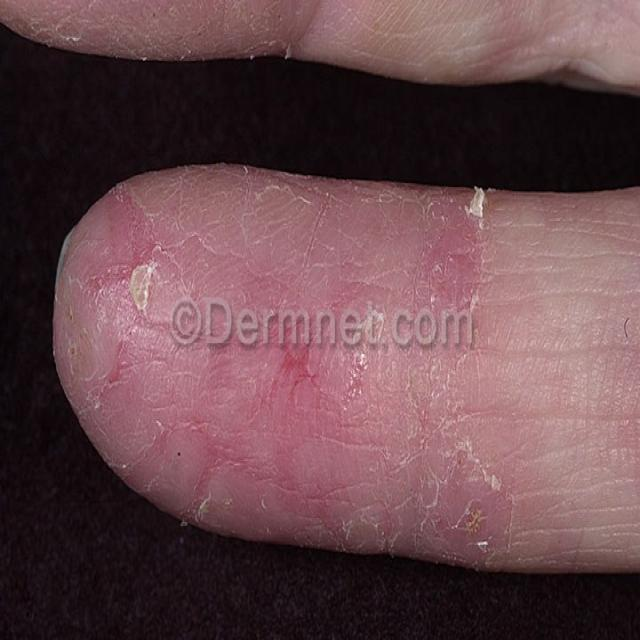Eczema: (86, 178, 513, 560)
